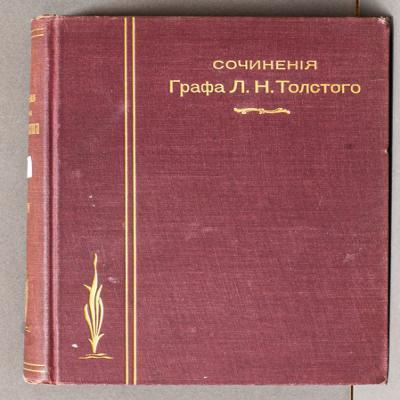rare_books: (16, 11, 400, 400)
